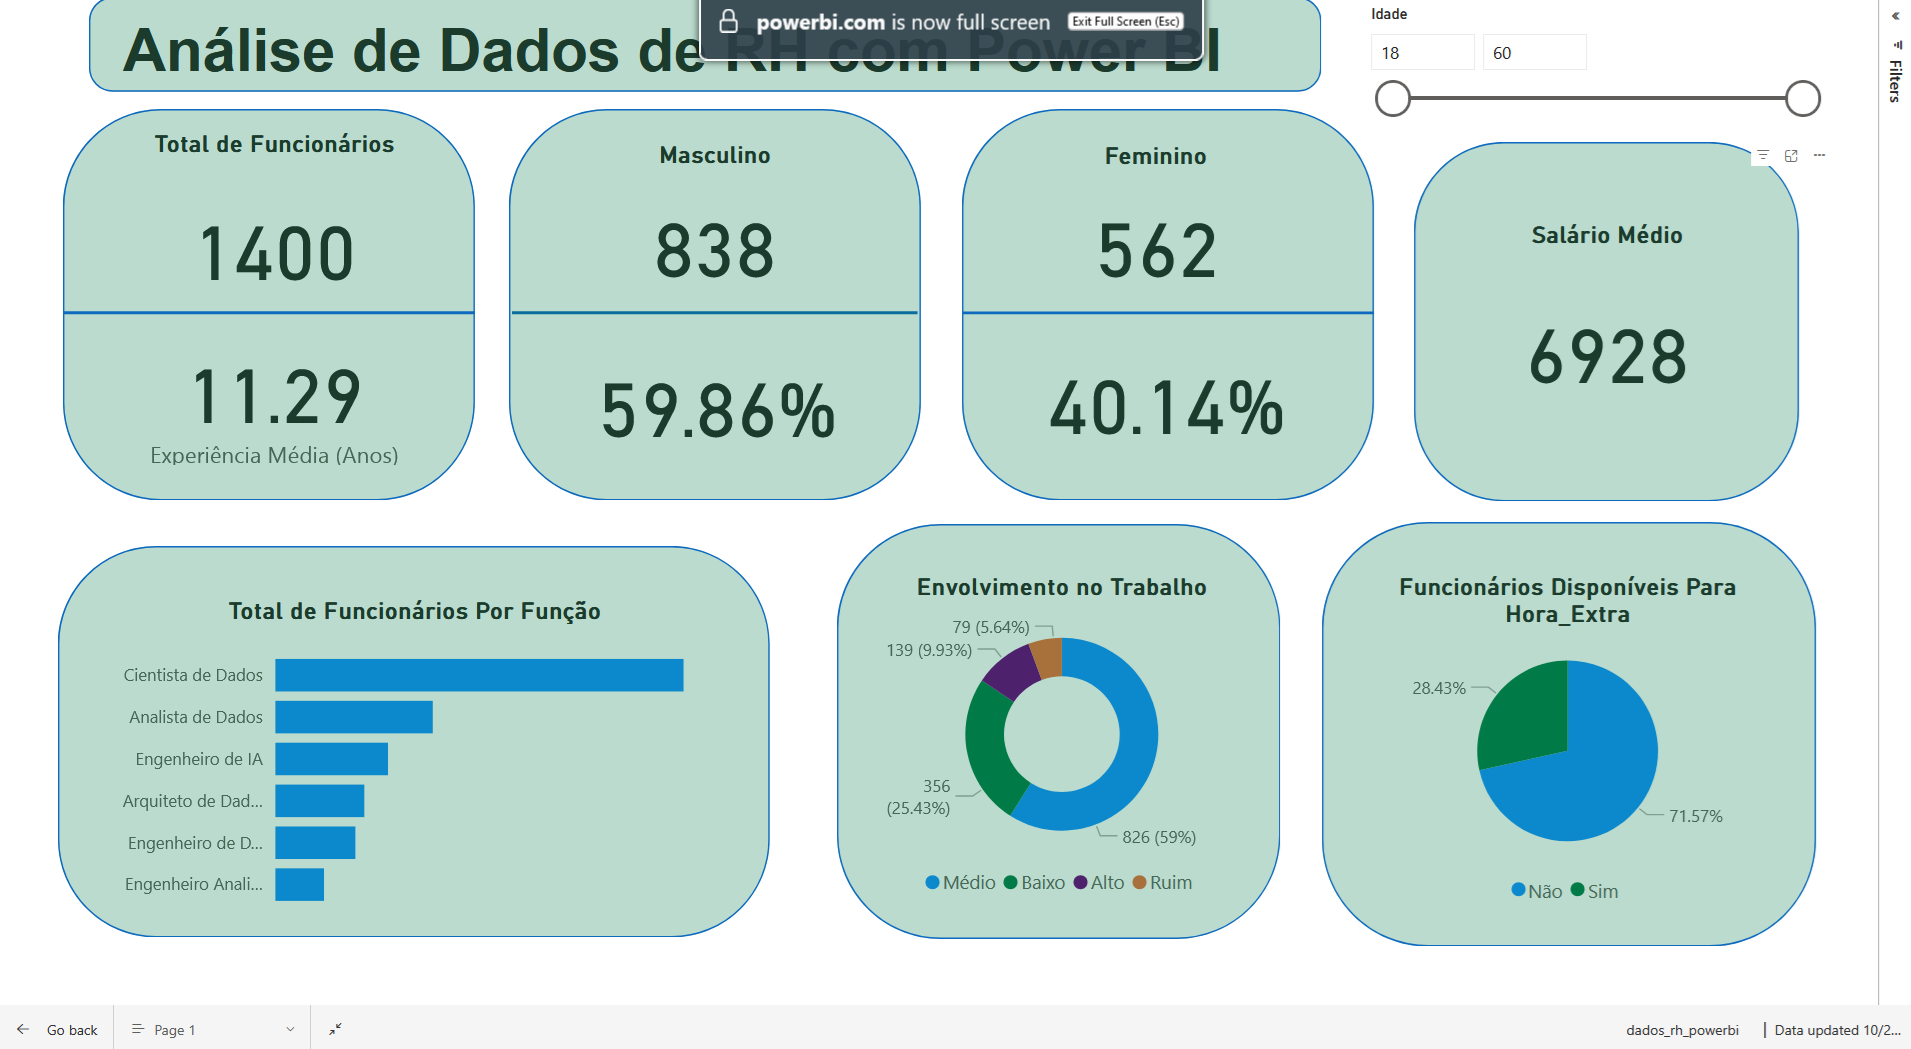

What the dashboard file says about the page in this screenshot:
{"tool":"powerbi","page":{"name":"Page 1","canvas":[1280,720],"ordinal":0},"visuals":[{"type":"textbox","box":[0,7.9,916.3,67.6],"z":0},{"type":"card","title":"Total de Funcionários","fields":{"Values":["Medidas.TotalFunc"]},"box":[24.8,94.7,286.3,143.1],"z":1000},{"type":"card","title":"Feminino","fields":{"Values":["Medidas.TotalFeminino"]},"box":[689.8,103.7,215.3,121.7],"z":2000},{"type":"card","title":"Masculino","fields":{"Values":["Medidas.TotalMasculino"]},"box":[365.2,102.6,235.6,122.9],"z":3000},{"type":"card","fields":{"Values":["Medidas.%Feminino"]},"box":[706.7,240.1,198.4,92.4],"z":4000},{"type":"card","fields":{"Values":["Medidas.%Masculino"]},"box":[369.7,246.8,227.7,82.3],"z":5000},{"type":"card","title":"Salário Médio","fields":{"Values":["Medidas.SalarioMedio"]},"box":[997.5,160.1,244.6,160.1],"z":6000},{"type":"card","fields":{"Values":["Avg(DatasetRH.Anos_Experiencia)"]},"box":[59.7,237.8,216.4,101.4],"z":7000},{"type":"clusteredBarChart","title":"Total de Funcionários Por Função","fields":{"Category":["DatasetRH.Funcao"],"Y":["Medidas.TotalFunc"]},"box":[42.8,428.3,450.8,234.4],"z":8000},{"type":"pieChart","title":"Funcionários Disponíveis Para Hora_Extra","fields":{"Y":["Medidas.TotalFunc"],"Category":["DatasetRH.Disponivel_Hora_Extra"]},"box":[927.6,411.4,328,245.7],"z":9000},{"type":"donutChart","title":"Envolvimento no Trabalho","fields":{"Y":["Medidas.TotalFunc"],"Category":["DatasetRH.Envolvimento_Trabalho"]},"box":[570.3,411.4,321.2,240.1],"z":10000},{"type":"shape","box":[16.9,80,294.2,279.5],"z":11000},{"type":"shape","box":[16.9,149.9,294.2,151],"z":12000},{"type":"shape","box":[338.1,149.9,289.7,151],"z":13000},{"type":"shape","box":[335.9,80,294.2,279.5],"z":14000},{"type":"shape","box":[659.4,80,294.2,279.5],"z":15000},{"type":"shape","box":[980.6,109.3,275,250.2],"z":16000},{"type":"shape","box":[659.4,75.5,294.2,299.8],"z":17000},{"type":"shape","box":[13.5,392.2,508.3,279.5],"z":18000},{"type":"shape","box":[570.3,376.5,316.7,296.4],"z":19000},{"type":"shape","box":[916.3,375.3,352.8,303.2],"z":20000},{"type":"shape","box":[36.1,0,880.3,67.6],"z":21000},{"type":"slicer","fields":{"Values":["DatasetRH.Idade"]},"box":[927.6,0,352.8,86.8],"z":21001}]}

Visuals, with their boxes on the page's 1280x720 design canvas (x1, y1, x2, y2). These are canvas units, not pixel positions in the 1911x1049 screenshot, which may show the page scaled, cropped or inside an application window:
textbox: 0/8/916/76
"Total de Funcionários" card: 25/95/311/238
"Feminino" card: 690/104/905/225
"Masculino" card: 365/103/601/226
card - Medidas.%Feminino: 707/240/905/332
card - Medidas.%Masculino: 370/247/597/329
"Salário Médio" card: 998/160/1242/320
card - Avg(DatasetRH.Anos_Experiencia): 60/238/276/339
"Total de Funcionários Por Função" clusteredBarChart: 43/428/494/663
"Funcionários Disponíveis Para Hora_Extra" pieChart: 928/411/1256/657
"Envolvimento no Trabalho" donutChart: 570/411/892/652
shape: 17/80/311/360
shape: 17/150/311/301
shape: 338/150/628/301
shape: 336/80/630/360
shape: 659/80/954/360
shape: 981/109/1256/360
shape: 659/76/954/375
shape: 14/392/522/672
shape: 570/376/887/673
shape: 916/375/1269/678
shape: 36/0/916/68
slicer - DatasetRH.Idade: 928/0/1280/87
